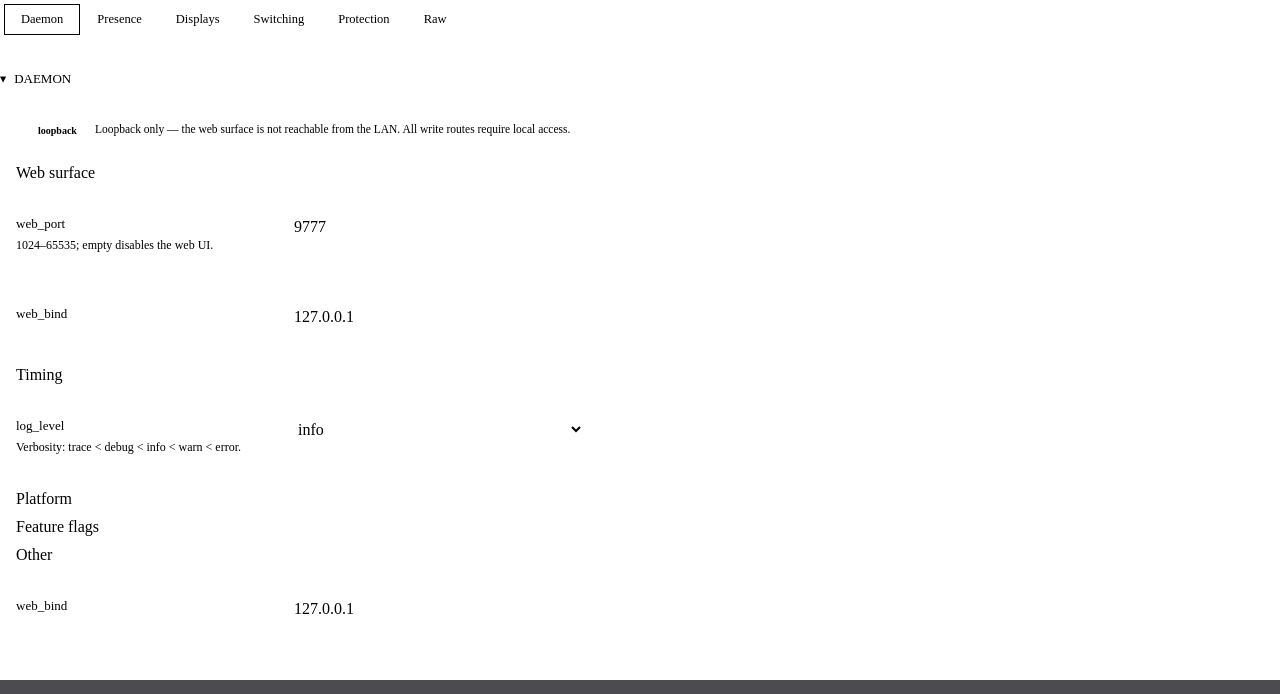
Test: Config tab-switch guard › does not show confirm when switching while clean
The image size is (1280, 694).
Expected: the dropdown labelled "log_level" is shown, left=284, top=414, right=584, bottom=444
// Not dirty — switch to Raw tab without confirm
Click the button "Raw".
click(435, 20)  # box left=407, top=4, right=464, bottom=35
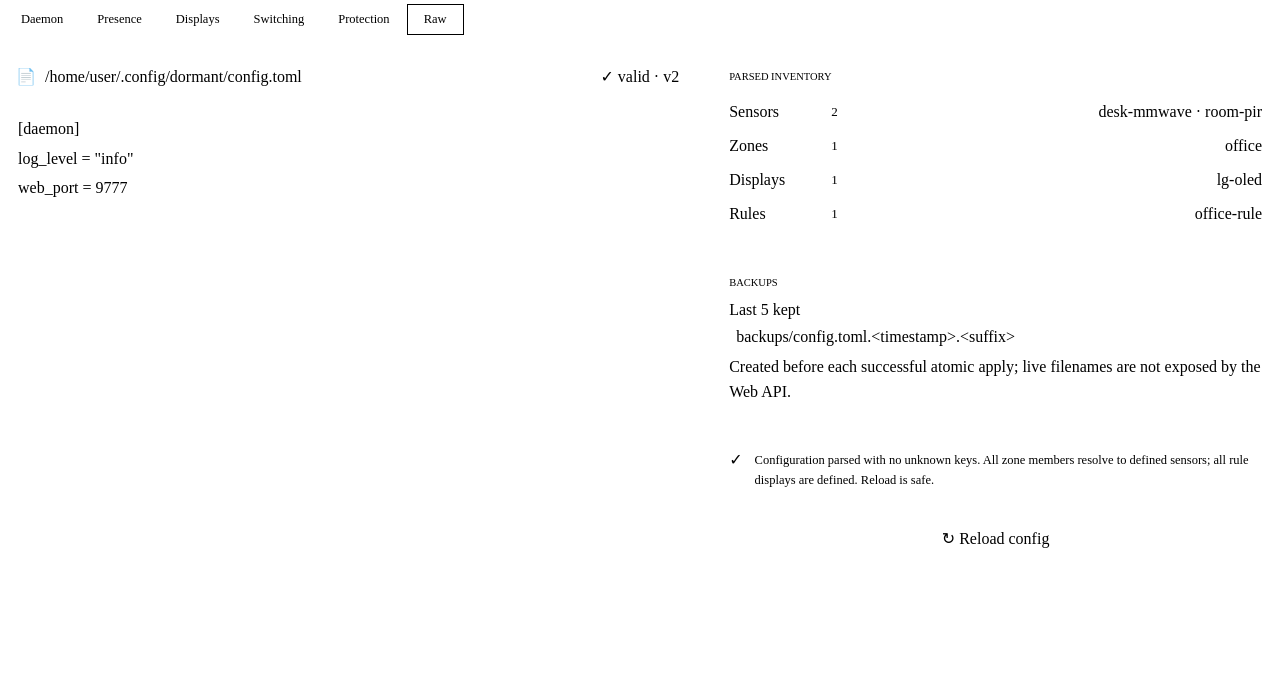
Expected: the text "Parsed inventory" is shown, left=729, top=71, right=832, bottom=82
